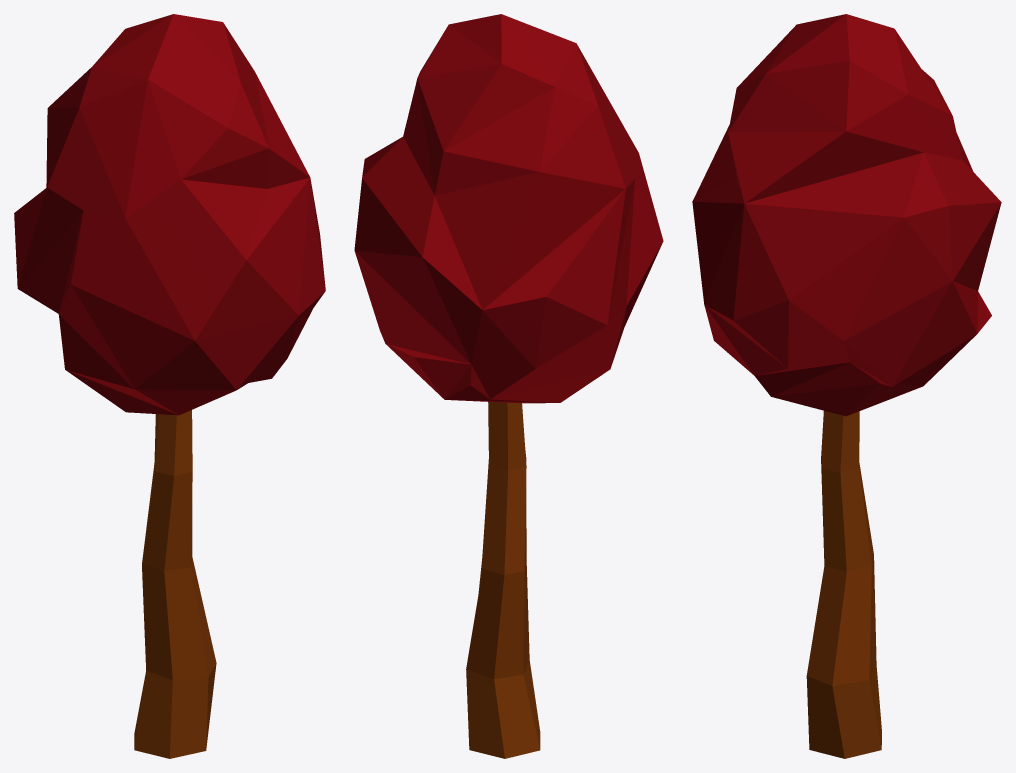
The model's file is Tree_2_Red.fbx.
3 views of the same model, side by side, from view 1: azimuth 30°, elevation 25°; view 2: azimuth 150°, elevation 25°; view 3: azimuth 270°, elevation 25° (orthographic).
Visible parts, largest first — view 1: pCube1, pCylinder1; view 2: pCube1, pCylinder1; view 3: pCube1, pCylinder1.
Part boxes in pixels (x1,y1,x2,y2): pCube1: (14, 14, 325, 415); pCylinder1: (134, 410, 216, 758); pCube1: (354, 14, 663, 403); pCylinder1: (466, 402, 540, 758); pCube1: (692, 14, 1001, 416); pCylinder1: (806, 411, 881, 758).
Bounding box in the file's own units: 324 × 857 × 330.
